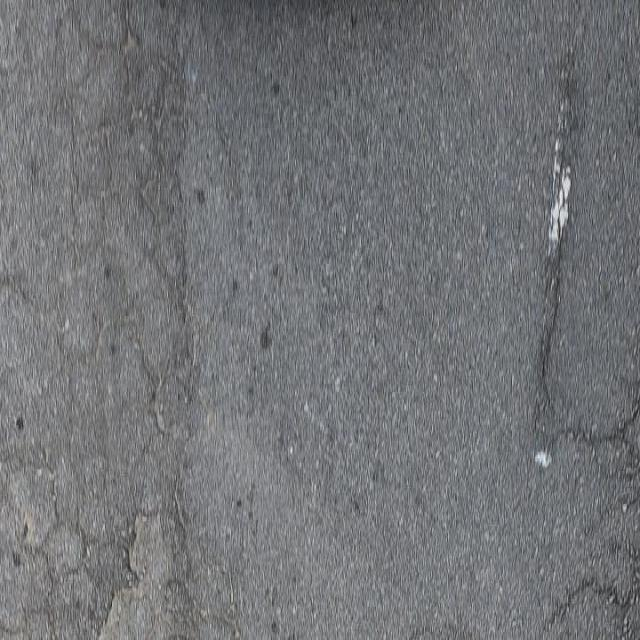cracks: (0, 4, 219, 640)
potholes: (520, 49, 640, 585)
